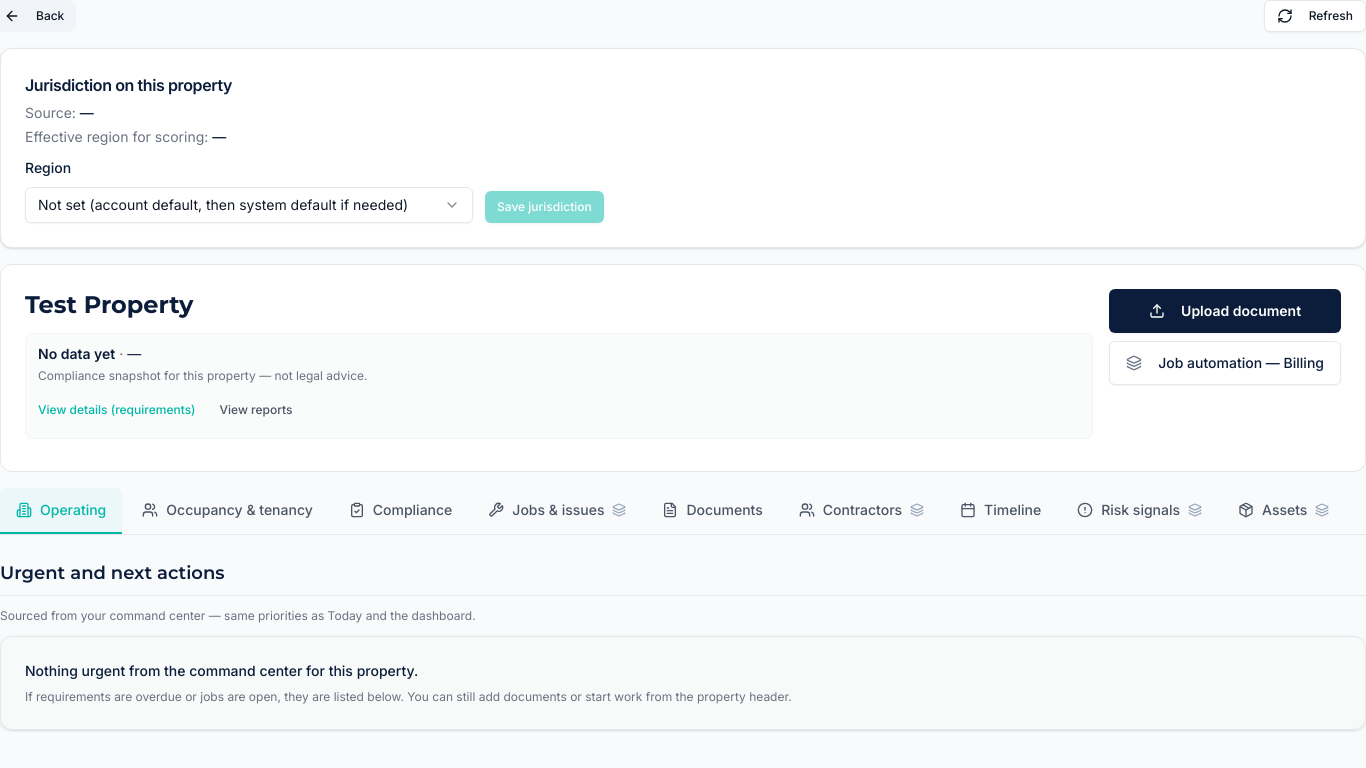
it: PropertyDetailPage presentation authority alignment › declaration-only satisfied — shows governed labels and API counts without frontend inference
This screenshot has width=1366, height=768.
Click the button "Compliance". click: (401,511)
box: [333,488,468,534]
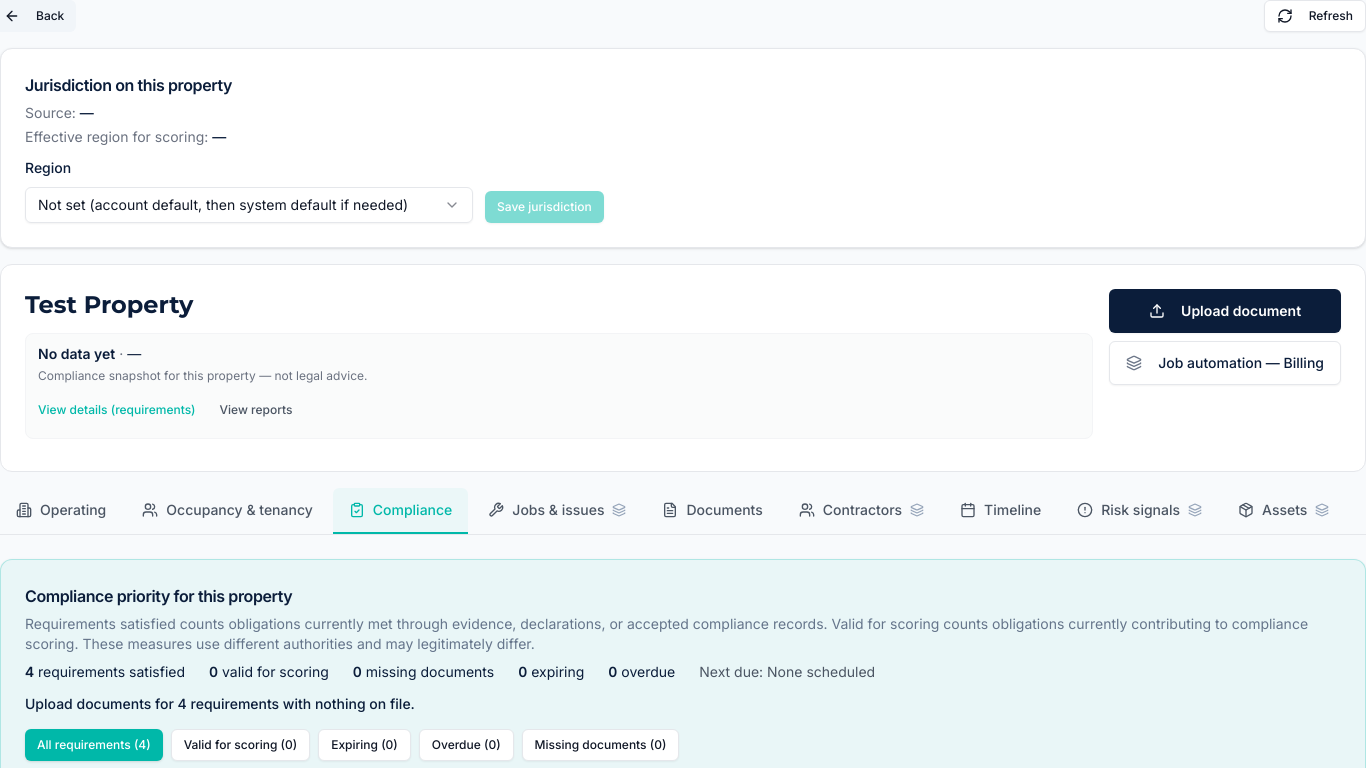
Result: the button "Valid for scoring (0)" is shown
Result: the element titled "Visible requirements with recorded evidence on file — your lifecycle completion count." shows "4" at [25,663,34,680]
Result: the text "may legitimately differ" is shown at [25,615,1308,652]
Click the button "Valid for scoring (0)". click: (240,745)
box: [171,729,310,761]
(page scrolled)
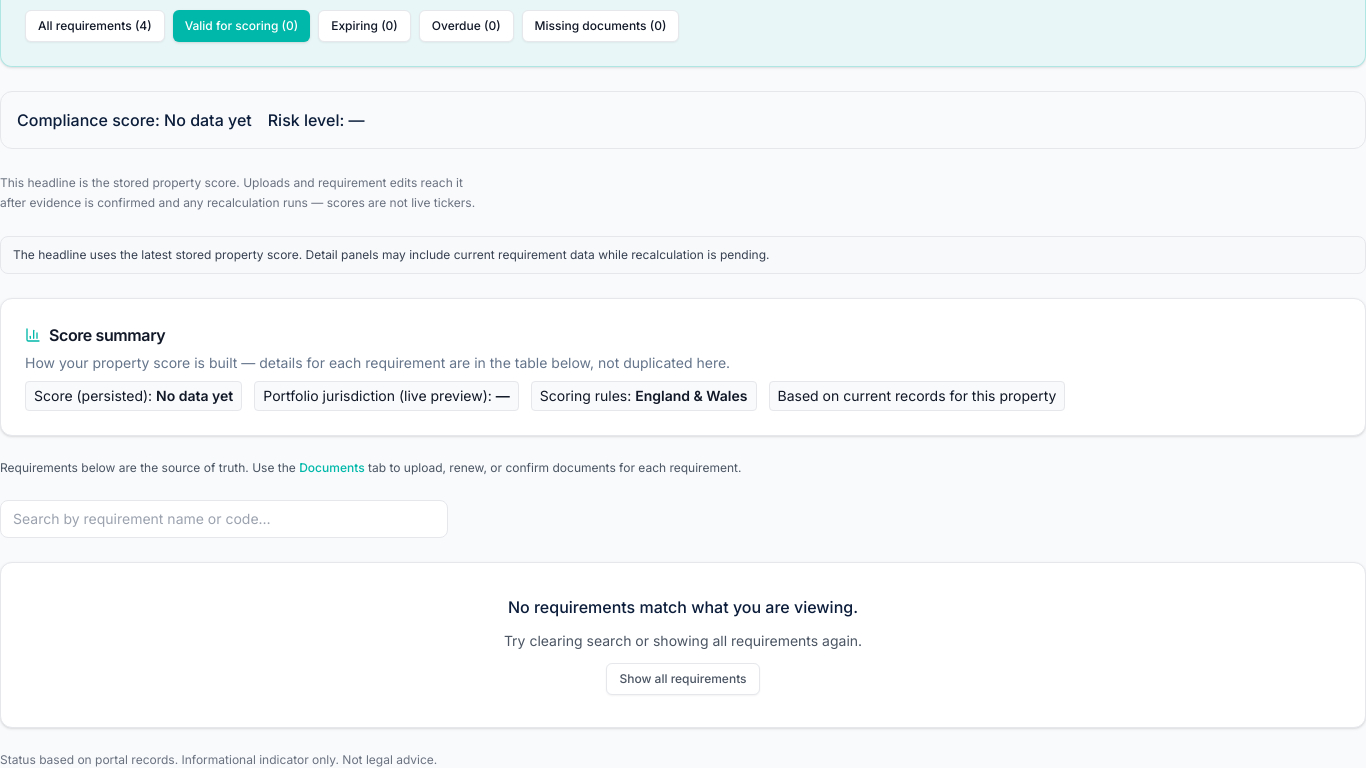
Result: the text "No requirements match what you are viewing." is shown at [508,597,858,617]
